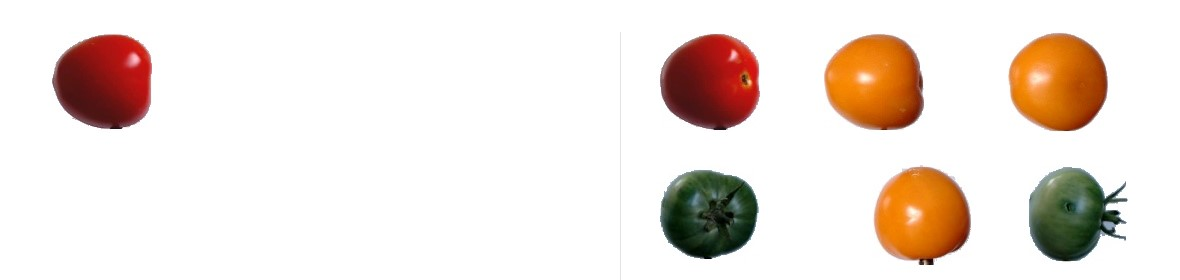green: (1027, 168, 1133, 262), (662, 170, 759, 266)
half: (1010, 27, 1114, 133), (825, 35, 929, 127), (879, 166, 971, 265)
red: (43, 33, 162, 132), (660, 33, 767, 135)
